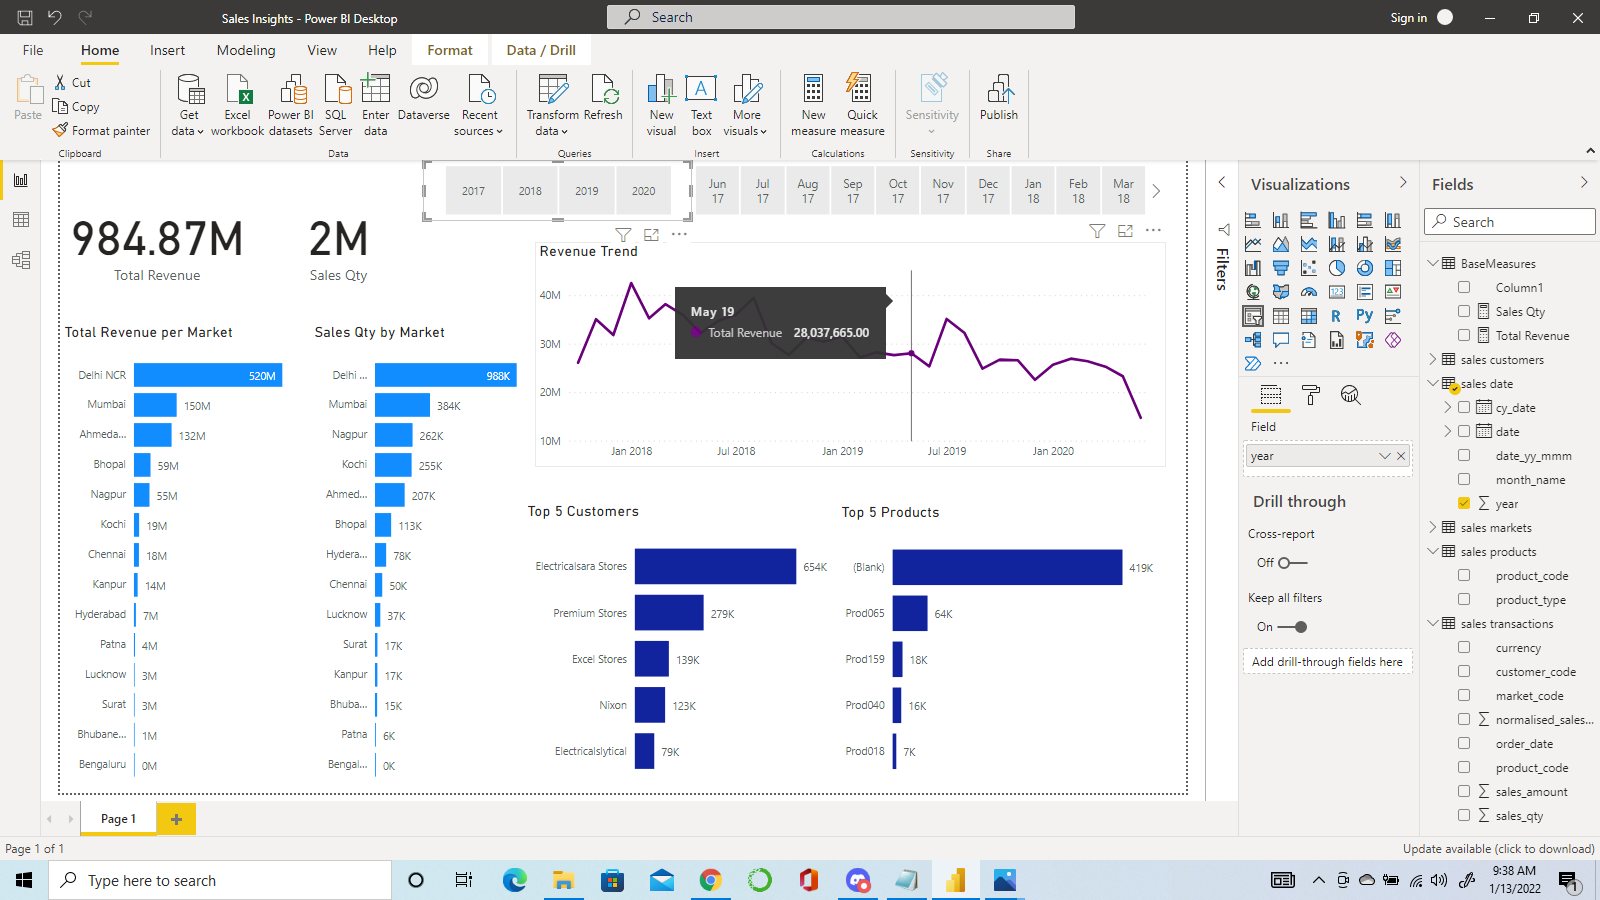

The page's visual inventory and layout, read from the dashboard file:
{"tool":"powerbi","page":{"name":"Page 1","canvas":[1280,720],"ordinal":0},"visuals":[{"type":"card","fields":{"Values":["BaseMeasures.Total Revenue"]},"box":[0,0,220.7,185.4],"z":0},{"type":"card","fields":{"Values":["BaseMeasures.Sales Qty"]},"box":[220.7,0,192.2,185.4],"z":1000},{"type":"barChart","title":"Total Revenue per Market","fields":{"Y":["BaseMeasures.Total Revenue"],"Category":["sales markets.markets_name"]},"box":[0,185.4,284.4,534.6],"z":2000},{"type":"barChart","title":"Sales Qty by Market","fields":{"Y":["BaseMeasures.Sales Qty"],"Category":["sales markets.markets_name"]},"box":[284.4,185.4,242.3,534.6],"z":3000},{"type":"slicer","fields":{"Values":["sales date.year"]},"box":[412.9,0,306,69.4],"z":4000},{"type":"slicer","fields":{"Values":["sales date.cy_date"]},"box":[697.3,0,560.8,69.4],"z":5000},{"type":"barChart","title":"Top 5 Customers","fields":{"Y":["BaseMeasures.Sales Qty"],"Category":["sales customers.custmer_name"]},"box":[526.6,389,357.2,331],"z":6000},{"type":"barChart","title":"Top 5 Products","fields":{"Y":["BaseMeasures.Sales Qty"],"Category":["sales products.product_code"]},"box":[883.8,390.1,379.9,329.9],"z":7000},{"type":"lineChart","title":"Revenue Trend","fields":{"Y":["BaseMeasures.Total Revenue"],"Category":["sales date.cy_date"]},"box":[540.3,93.3,717.7,255.9],"z":8000}]}

Visuals, with their boxes on the page's 1280x720 design canvas (x1, y1, x2, y2). These are canvas units, not pixel positions in the 1600x900 screenshot, which may show the page scaled, cropped or inside an application window:
card - BaseMeasures.Total Revenue: 0:0:221:185
card - BaseMeasures.Sales Qty: 221:0:413:185
"Total Revenue per Market" barChart: 0:185:284:720
"Sales Qty by Market" barChart: 284:185:527:720
slicer - sales date.year: 413:0:719:69
slicer - sales date.cy_date: 697:0:1258:69
"Top 5 Customers" barChart: 527:389:884:720
"Top 5 Products" barChart: 884:390:1264:720
"Revenue Trend" lineChart: 540:93:1258:349
